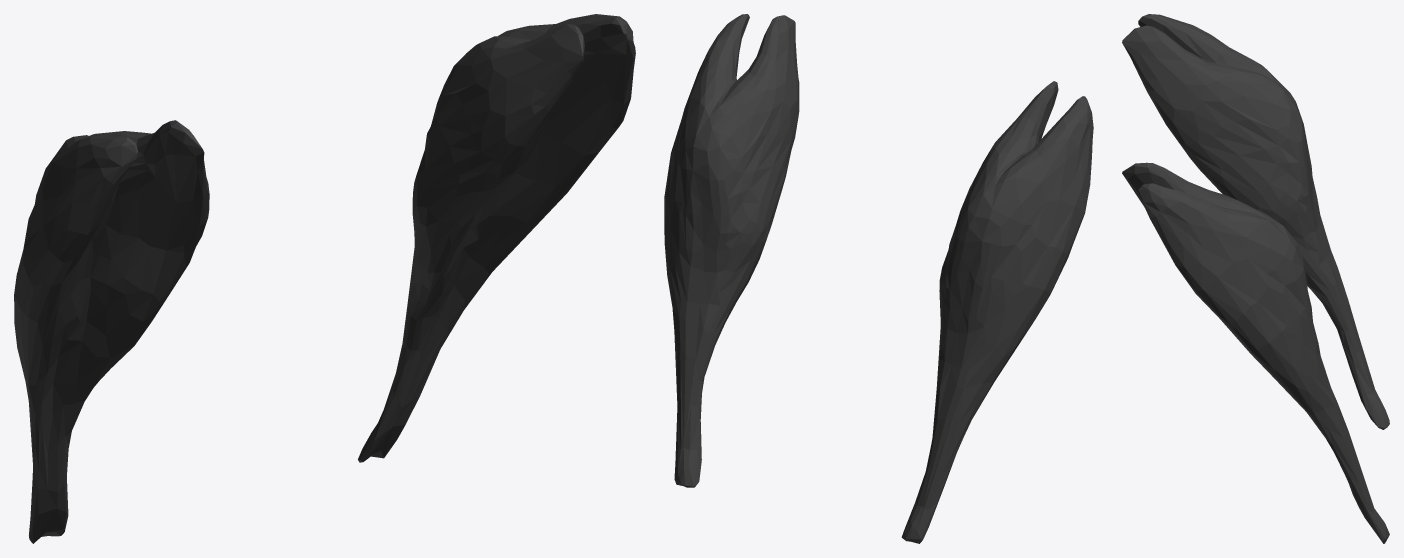
Rendered from m_gastrocnemius.glb.
3 renders of one model, left to right at view 1: azimuth 30°, elevation 25°; view 2: azimuth 150°, elevation 25°; view 3: azimuth 270°, elevation 25°, orthographic. The views are drawn at different scales.
Parts seen in each view (by area): view 1: m_gastrocnemius; view 2: m_gastrocnemius; view 3: m_gastrocnemius.
Part boxes in pixels (box(x1,y1,x2,y2)): m_gastrocnemius: box(14, 14, 635, 543); m_gastrocnemius: box(664, 14, 1093, 543); m_gastrocnemius: box(1122, 14, 1389, 543).
Size of the model in its own units: 0.0075 by 0.00688 by 0.00429.
Materials: 1 (1 with a texture image).
